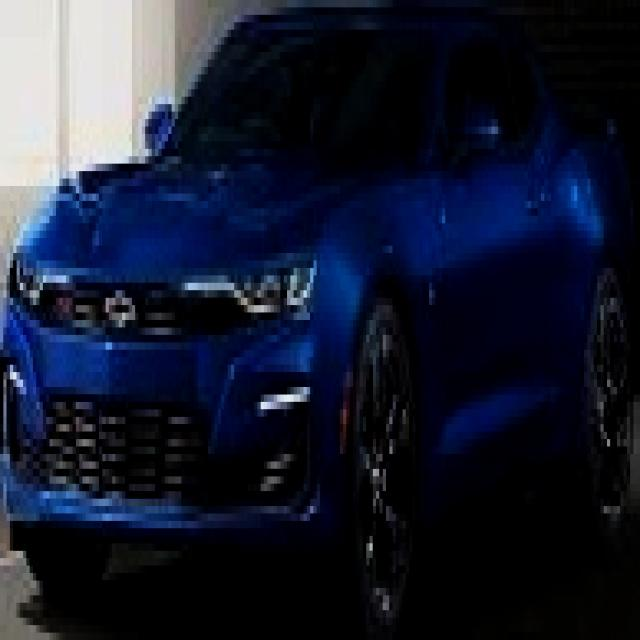blue: (0, 19, 632, 639)
